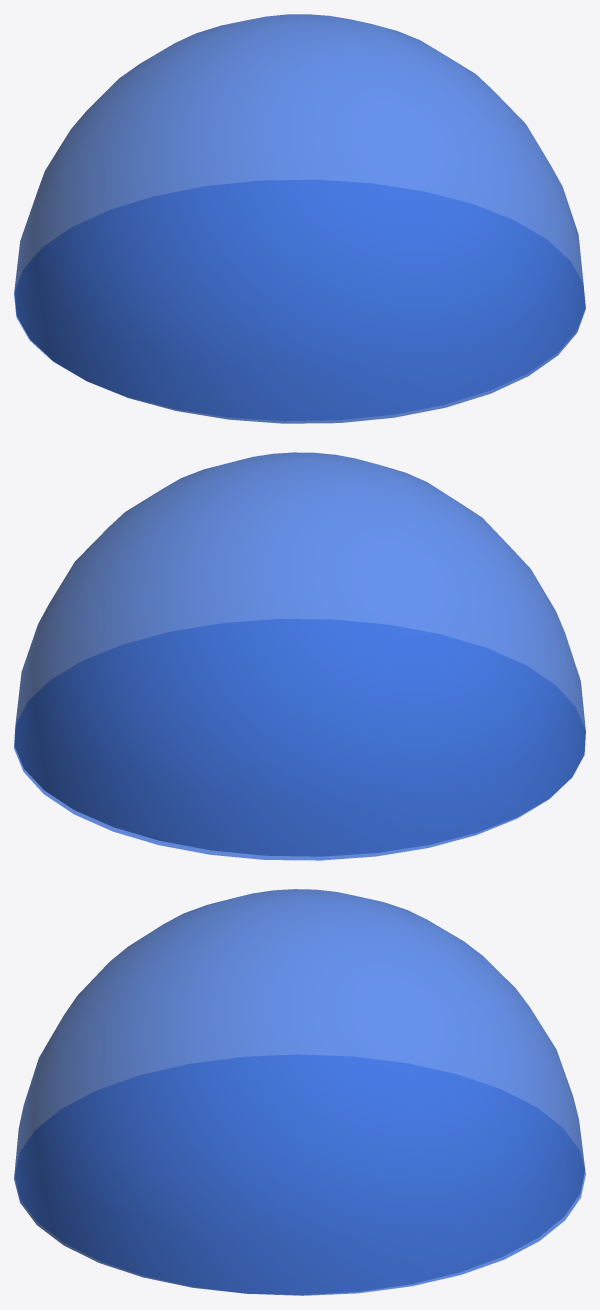
File: dome_c1.glb
3 views of the same model, one above another, from view 1: azimuth 30°, elevation 25°; view 2: azimuth 150°, elevation 25°; view 3: azimuth 270°, elevation 25° (orthographic).
Visible parts, largest first — view 1: dome1_1; view 2: dome1_1; view 3: dome1_1.
Boxes of the visible parts, <box> form: dome1_1: <box>14,14,585,423</box>; dome1_1: <box>14,452,585,860</box>; dome1_1: <box>14,889,585,1295</box>.
Bounding box in the file's own units: 1.4 × 0.7096 × 1.4.
